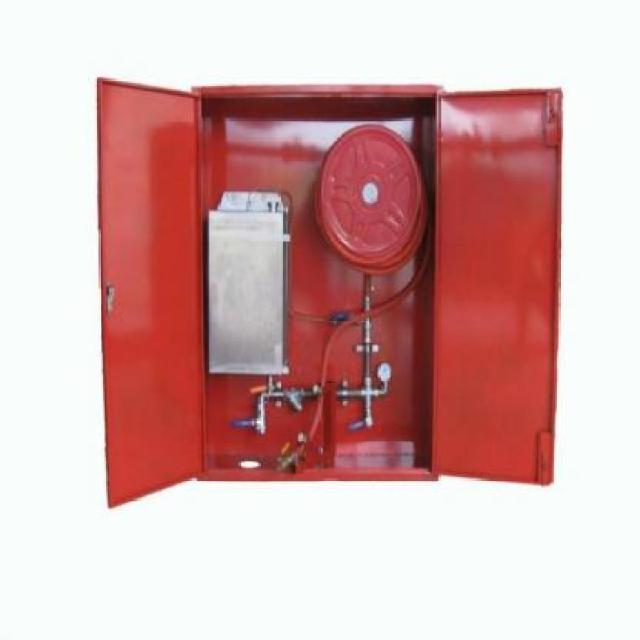firehydrant: (92, 69, 566, 517)
